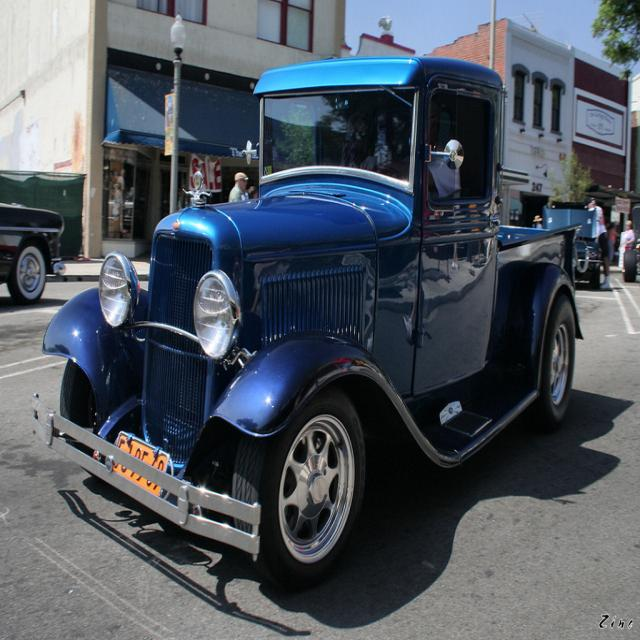car: (31, 47, 584, 589), (544, 197, 605, 295)
